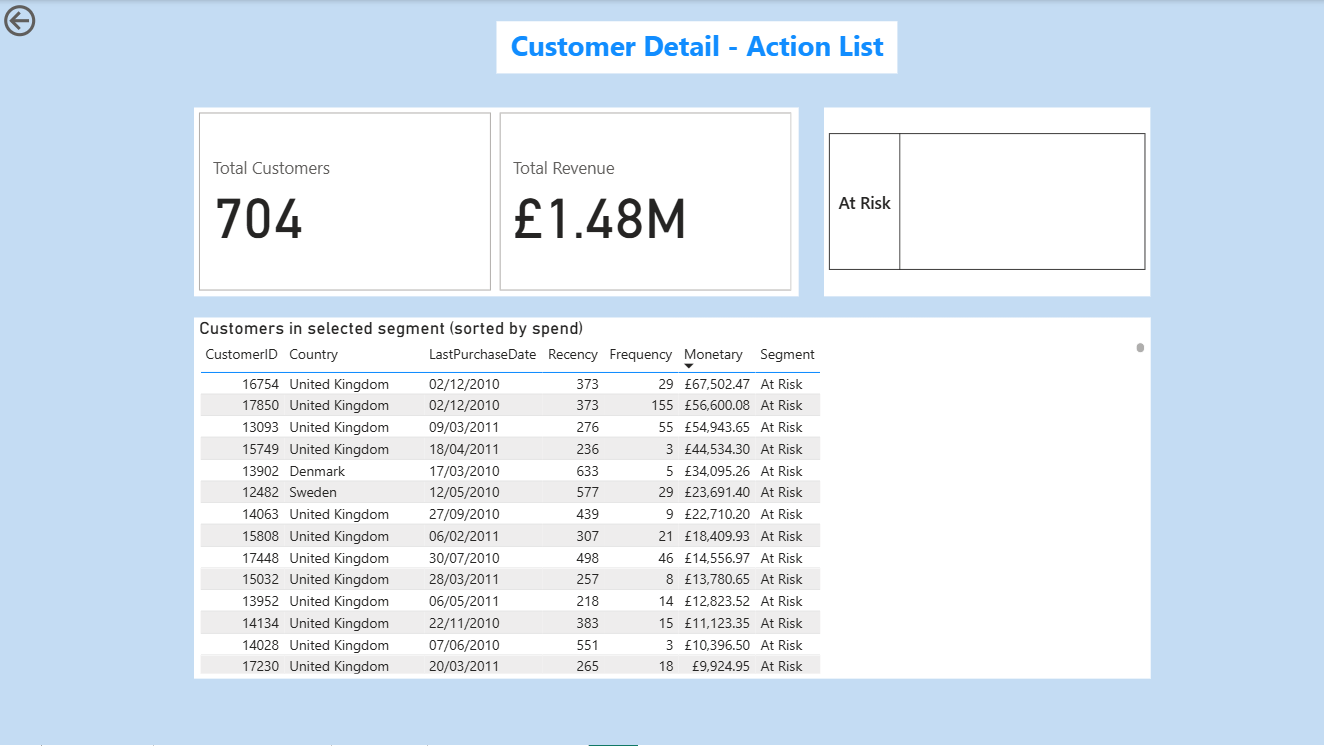

The page's visual inventory and layout, read from the dashboard file:
{"tool":"powerbi","page":{"name":"Customer Detail","canvas":[1280,720],"ordinal":3},"visuals":[{"type":"actionButton","box":[0,0,100,40],"z":0},{"type":"cardVisual","fields":{"Rows":["Dim_Customer.Segment"]},"box":[796.8,103.8,315,182.5],"z":1000},{"type":"cardVisual","fields":{"Data":["_Measures.Total Customers","_Measures.Total Revenue"]},"box":[188,103.8,583.8,182.5],"z":2000},{"type":"tableEx","title":"Customers in selected segment (sorted by spend)","fields":{"Values":["Dim_Customer.CustomerID","Dim_Customer.Country","Dim_Customer.LastPurchaseDate","Dim_Customer.Recency","Dim_Customer.Frequency","Dim_Customer.Monetary","Dim_Customer.Segment"]},"box":[188,306.2,923.8,348.8],"z":3000},{"type":"textbox","box":[480,20,387.5,50],"z":3001}]}

Visuals, with their boxes in screenshot pixels (x1, y1, x2, y2), scaled from the page's 1280x720 canvas onto the 1324x746 screenshot:
actionButton: bbox(0, 0, 103, 41)
cardVisual - Dim_Customer.Segment: bbox(824, 108, 1150, 297)
cardVisual - _Measures.Total Customers x _Measures.Total Revenue: bbox(194, 108, 798, 297)
"Customers in selected segment (sorted by spend)" tableEx: bbox(194, 317, 1150, 679)
textbox: bbox(496, 21, 897, 73)
